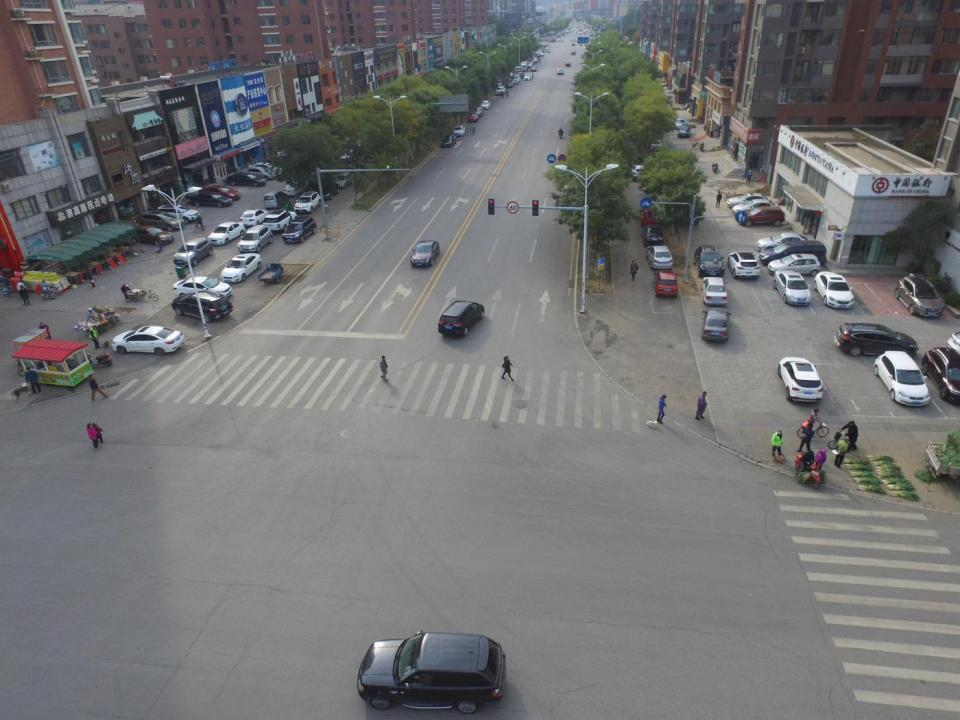car: (356, 631, 506, 714), (872, 350, 931, 406), (835, 322, 918, 358), (893, 275, 944, 320), (111, 325, 183, 355), (922, 348, 960, 403), (436, 300, 486, 340), (780, 356, 823, 402), (172, 292, 233, 322), (172, 275, 233, 301), (814, 271, 854, 310), (766, 252, 821, 277), (756, 232, 815, 255), (772, 271, 810, 306), (220, 253, 262, 284), (690, 242, 725, 276), (174, 237, 214, 266), (701, 305, 731, 342), (138, 211, 185, 233), (282, 216, 317, 245), (410, 238, 440, 270), (729, 250, 761, 280), (740, 206, 785, 227), (700, 275, 730, 306), (208, 221, 245, 245), (240, 226, 274, 252), (157, 204, 202, 223), (132, 224, 172, 245), (652, 270, 679, 300), (727, 194, 773, 211), (733, 198, 780, 214), (265, 210, 297, 232), (188, 191, 232, 207), (646, 244, 673, 270), (293, 191, 323, 214), (203, 185, 241, 202), (225, 172, 266, 187), (239, 208, 270, 226), (239, 167, 277, 181), (643, 224, 665, 248), (251, 160, 282, 177), (315, 182, 339, 202), (263, 191, 289, 209), (630, 159, 651, 181), (284, 180, 308, 197), (640, 208, 658, 227), (335, 172, 353, 189), (650, 137, 664, 152), (441, 134, 456, 148), (679, 122, 691, 138), (468, 111, 480, 124), (473, 106, 484, 119), (674, 118, 685, 130), (454, 126, 466, 137), (480, 102, 491, 110), (508, 76, 521, 82), (509, 79, 520, 86), (496, 86, 505, 94), (523, 74, 531, 81), (495, 79, 503, 86), (504, 82, 513, 88), (558, 69, 564, 76), (532, 65, 538, 71), (527, 62, 533, 68), (565, 62, 571, 67), (570, 50, 576, 55)
truck: (521, 61, 528, 71)
van: (757, 240, 828, 270), (511, 67, 522, 74)
